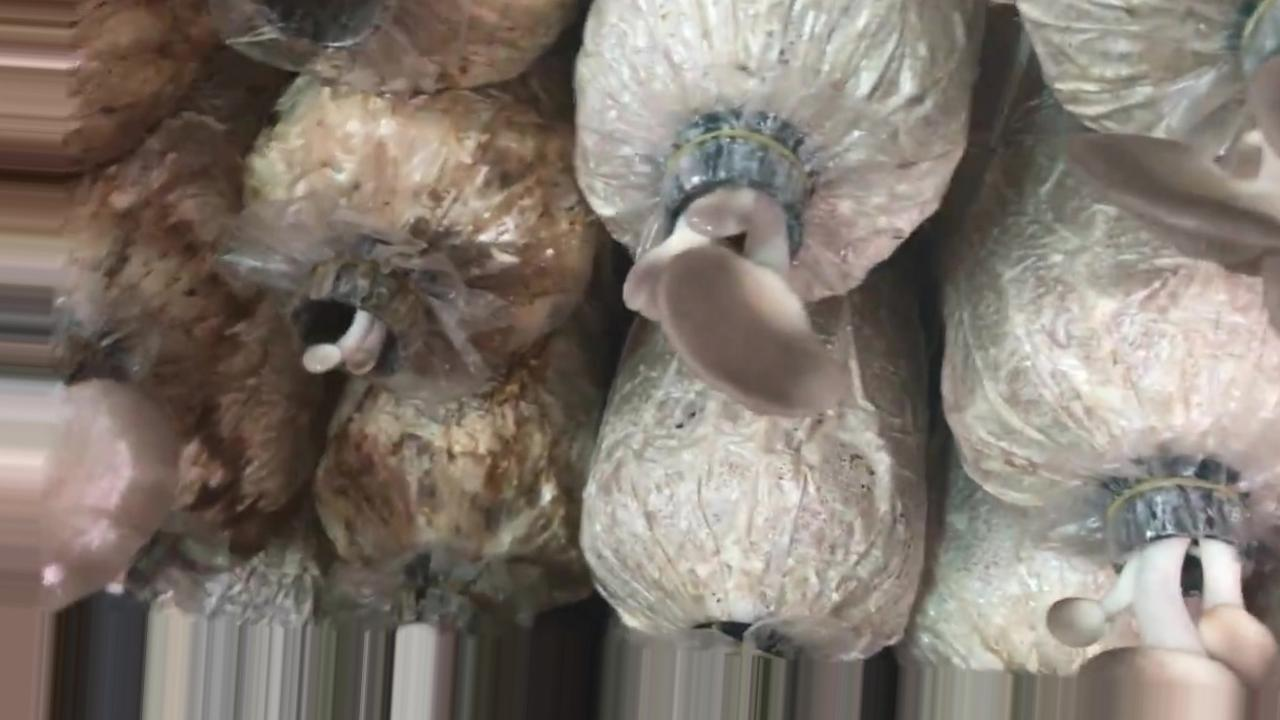nam: (618, 125, 846, 417), (1046, 475, 1276, 720), (292, 266, 411, 375)
